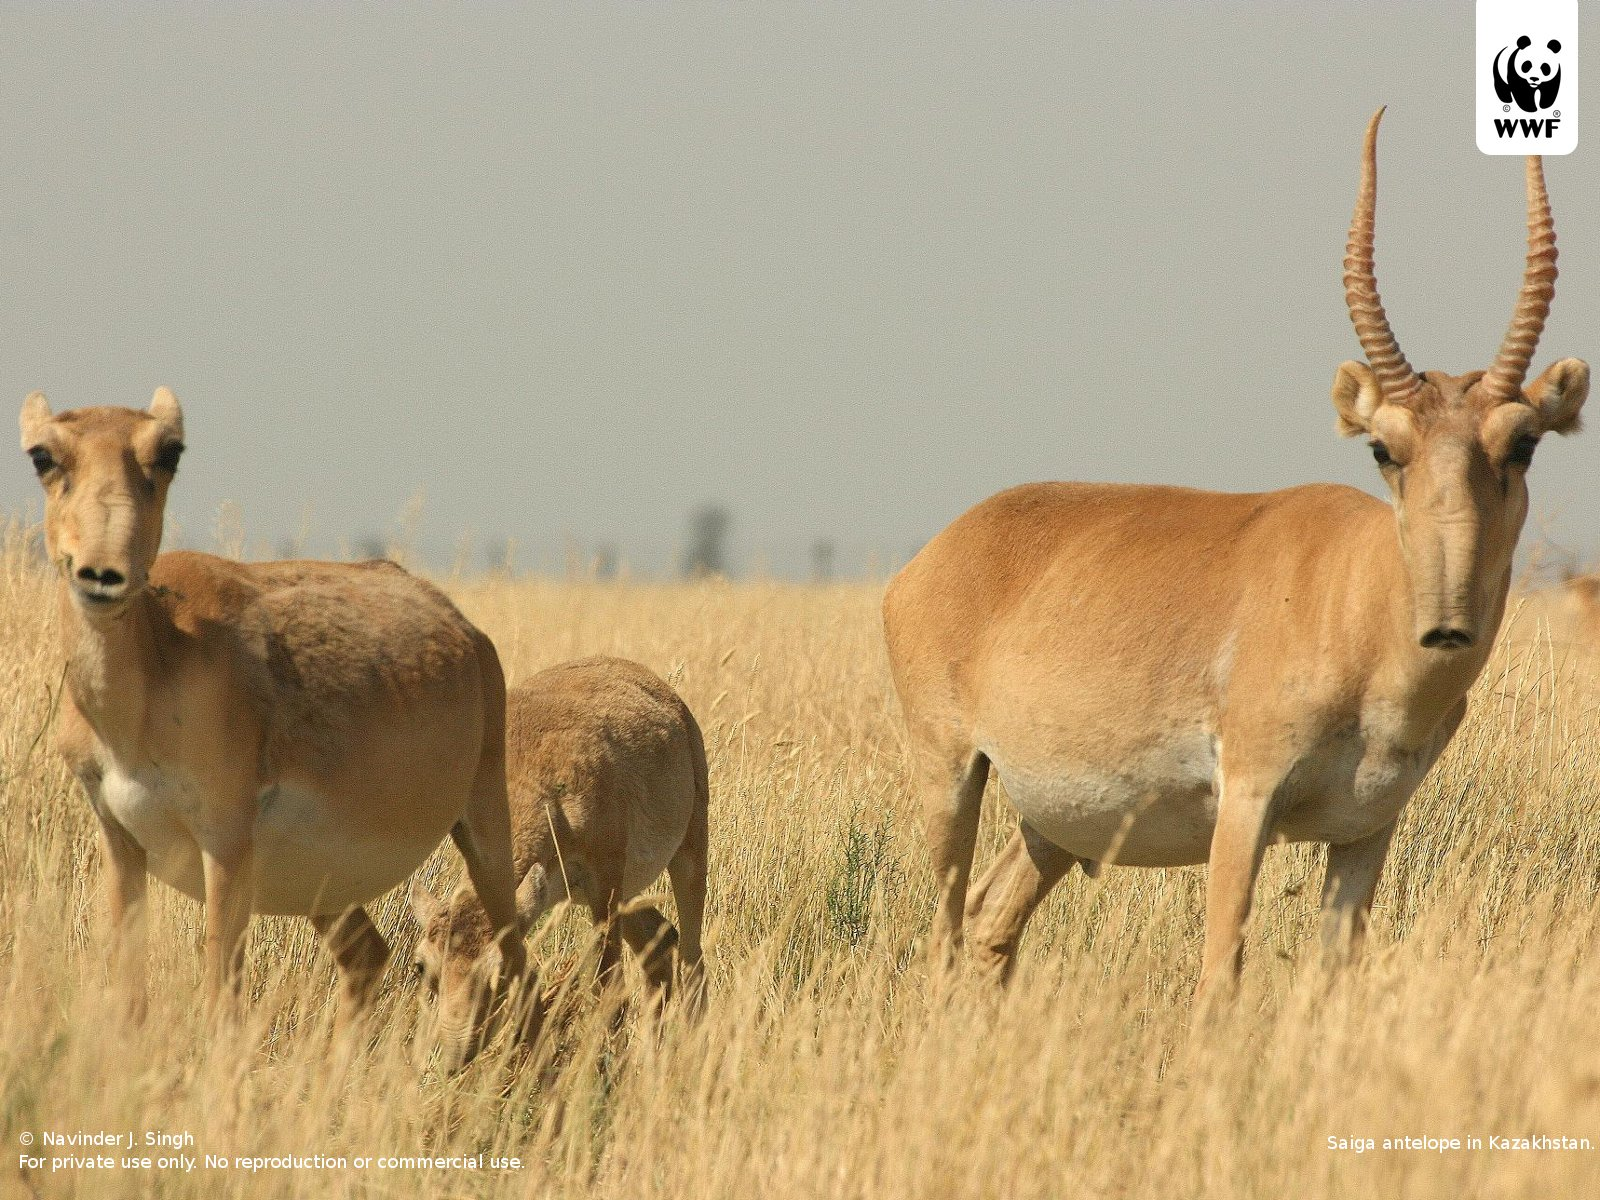saiga: (874, 108, 1600, 1055), (16, 388, 530, 1075)
